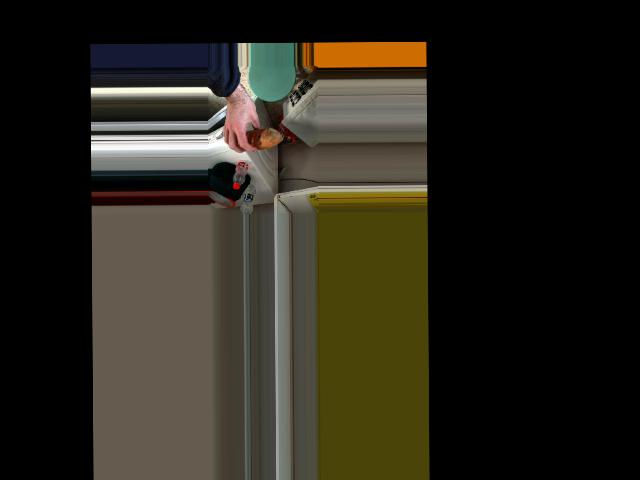sweet_potato: (239, 123, 272, 148)
